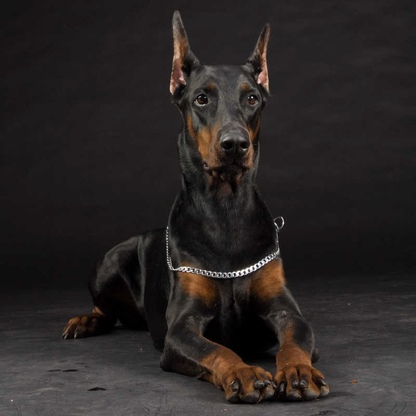doberman: (63, 13, 333, 410)
